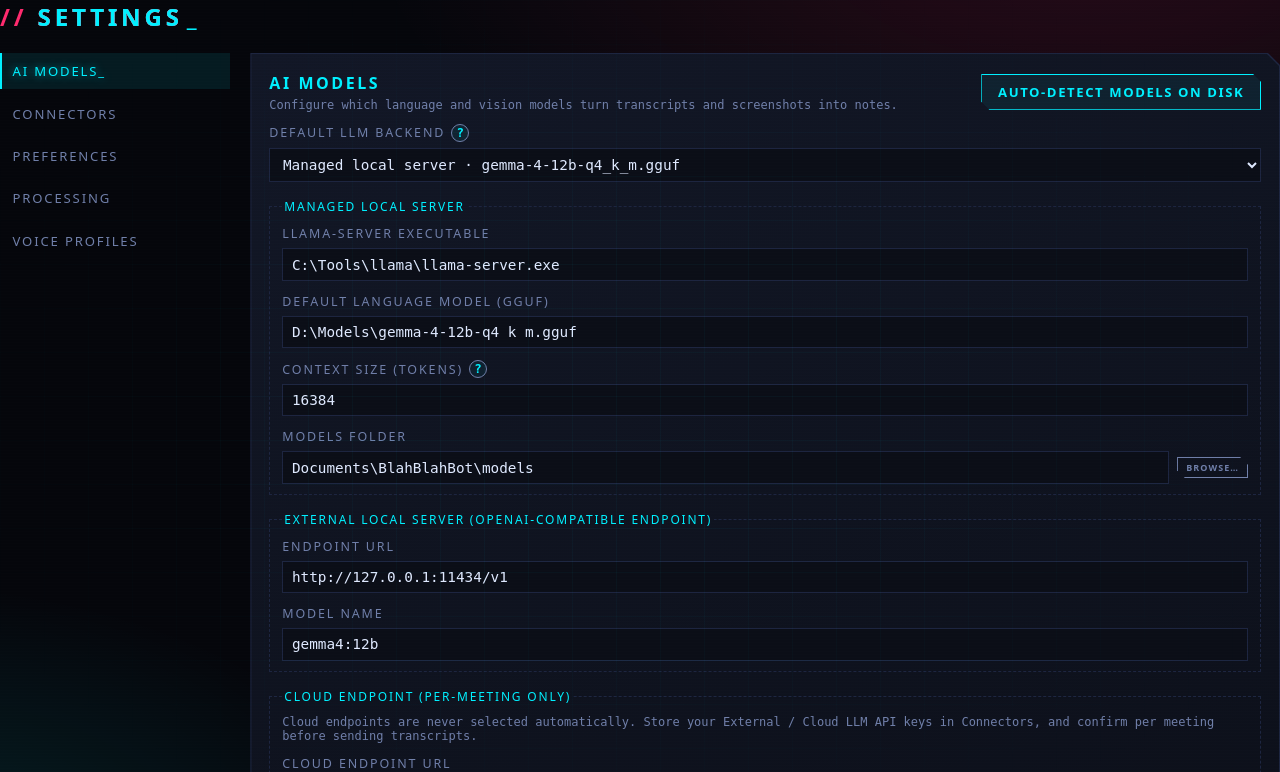
Test case: SettingsView › switches across all 5 tabs and renders each section cleanly
This screenshot has width=1280, height=772.
Click the tab "Connectors" at (115, 113), box [0,95,230,132]
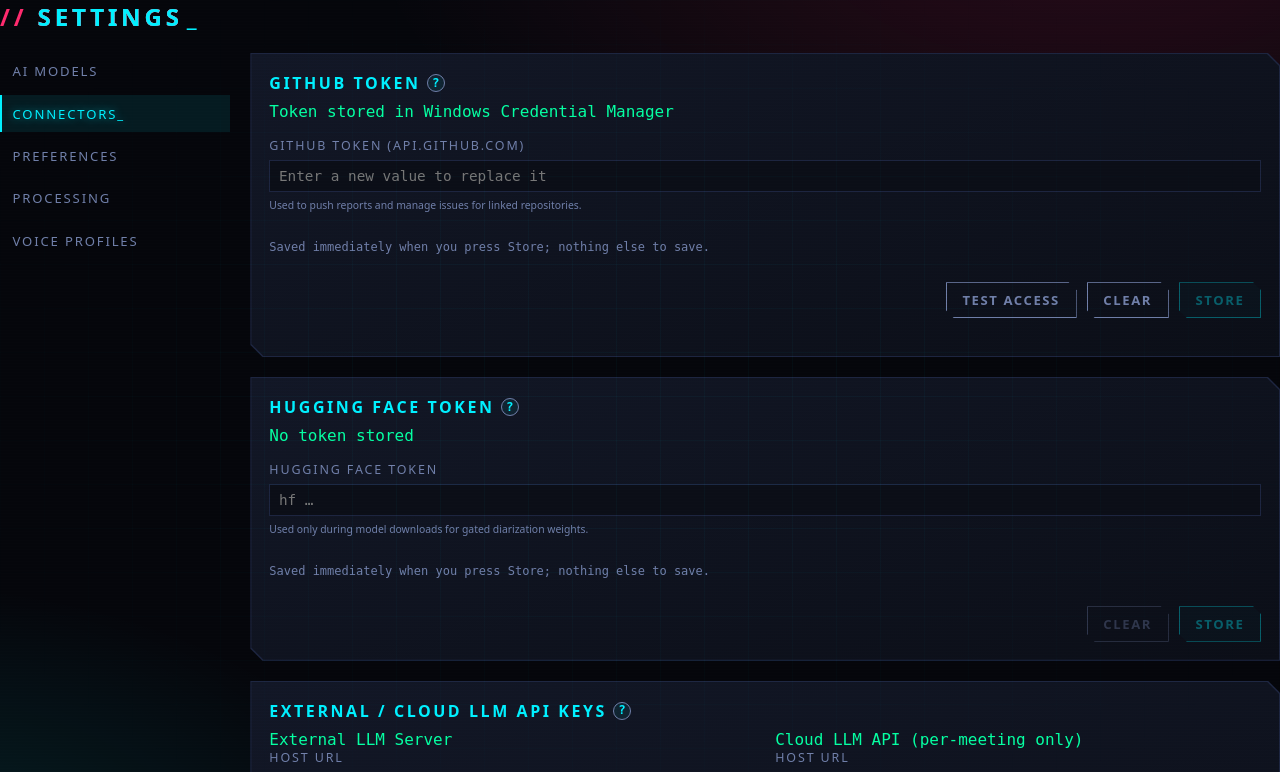
Expected: the text "Hugging Face Token" is shown, [269,396,495,418]
Result: the text "GitHub Token" is shown at [269,72,421,94]
Click the tab "Preferences" at (115, 156), box [0,138,230,174]
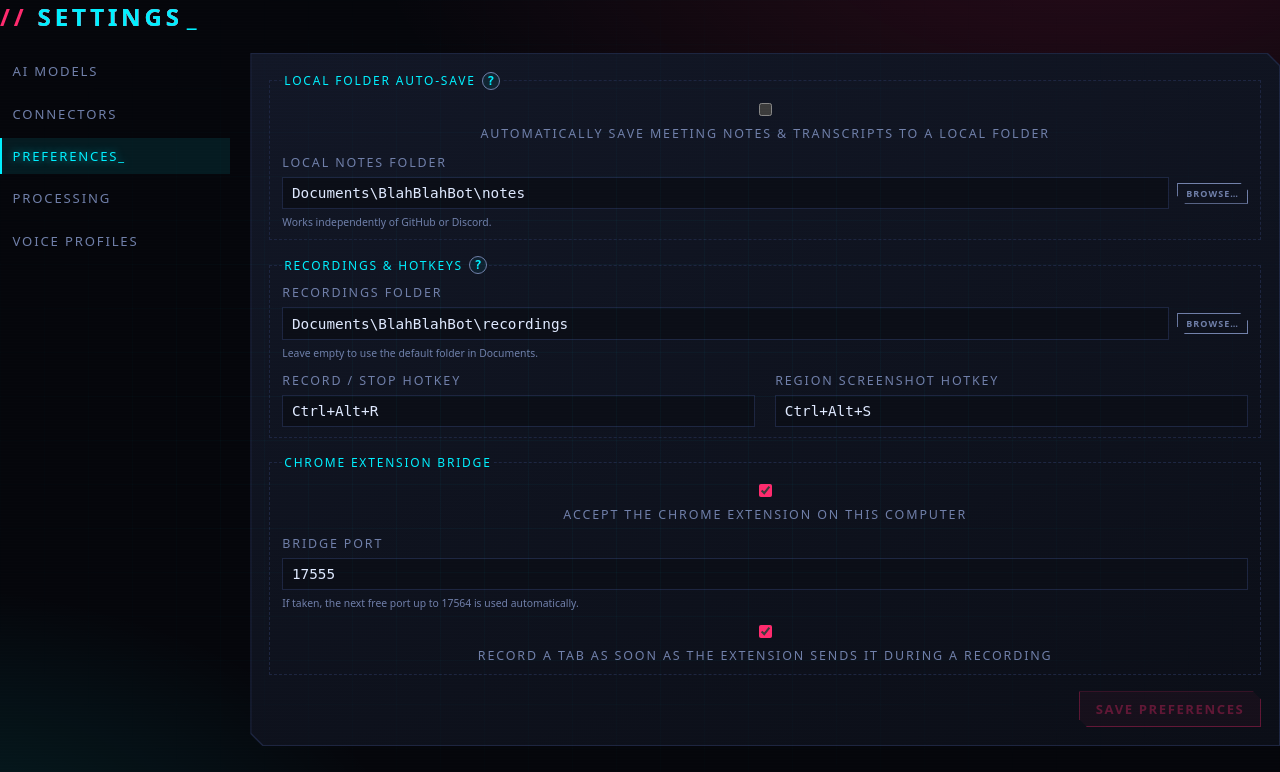
Result: the text "Automatically save meeting notes & transcripts to a local folder" is shown at [480,103,1050,142]
Click the tab "Processing" at (115, 198), box [0,180,230,216]
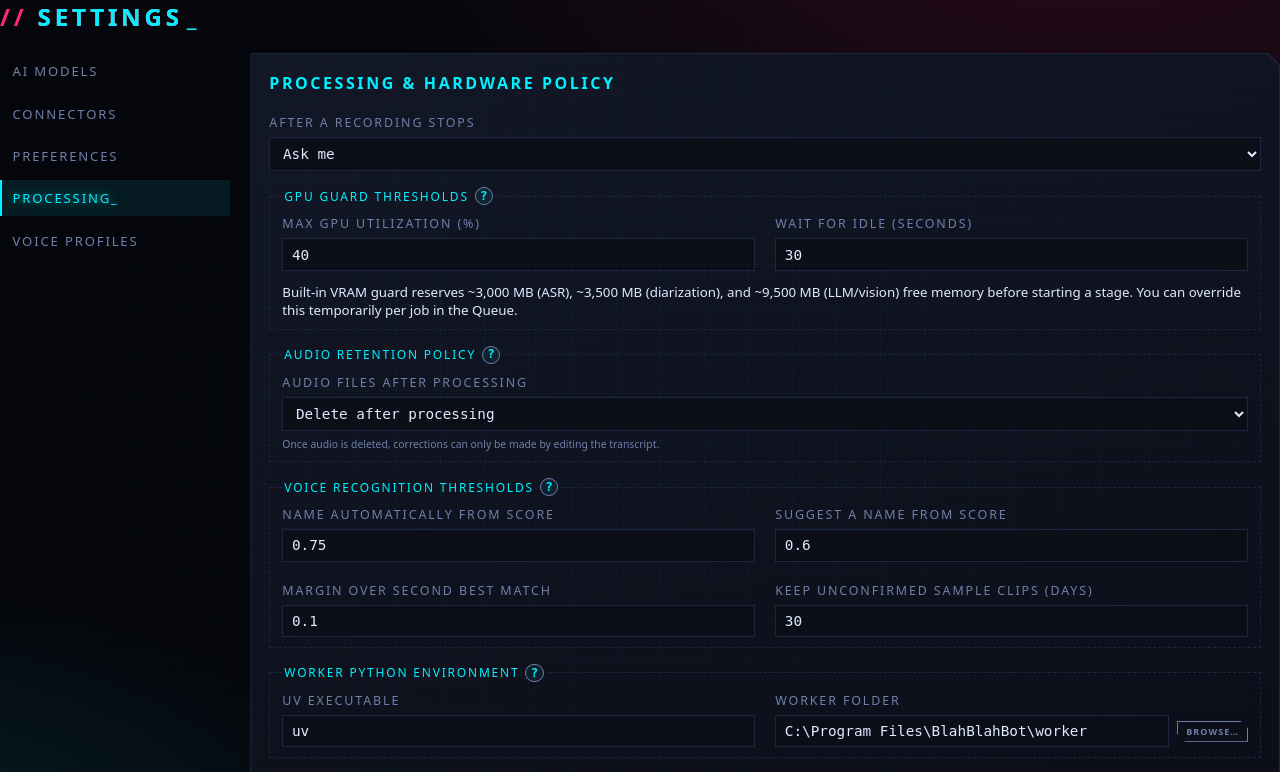
Result: the text "GPU guard thresholds" is shown at [284,188,469,205]
Result: the text "Audio retention policy" is shown at [284,346,476,363]
Result: the text "Worker Python environment" is shown at [284,664,520,682]
Click the tab "Voice Profiles" at (115, 241), box [0,222,230,259]
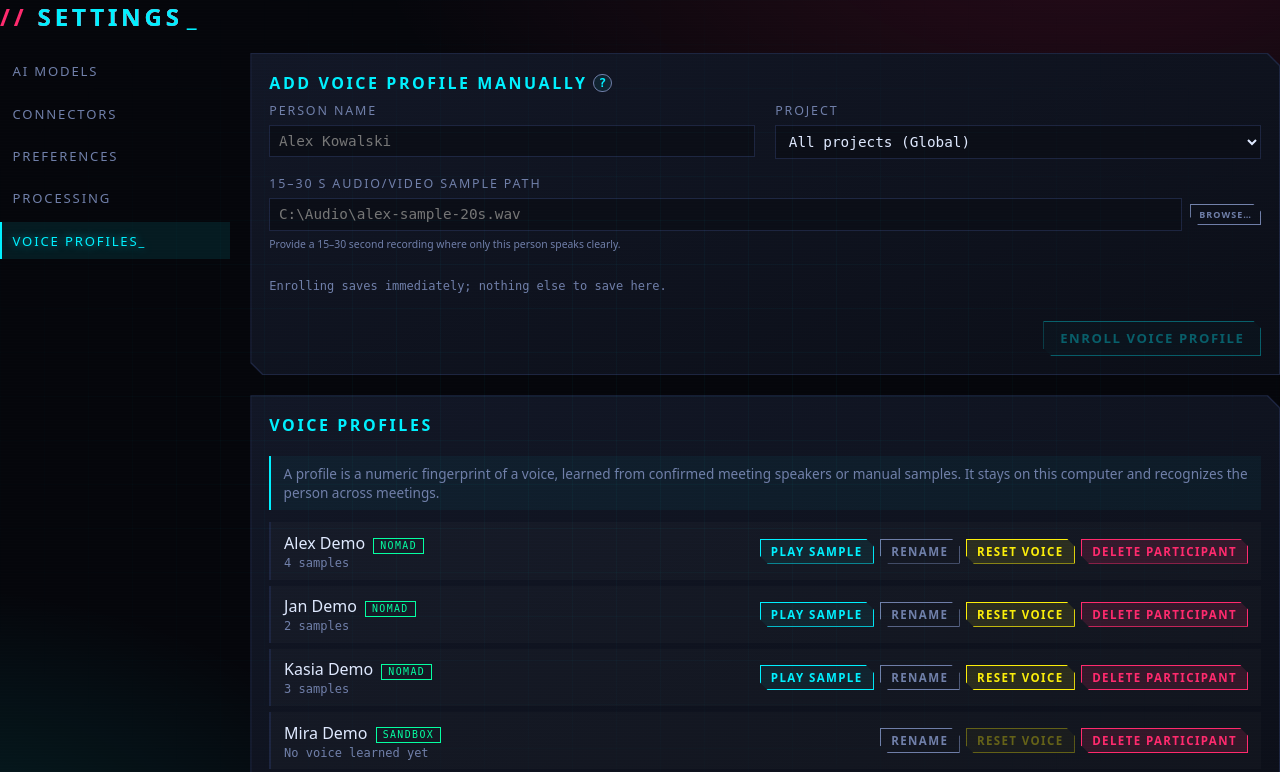
Result: the text "Add voice profile manually" is shown at [269,72,588,94]
